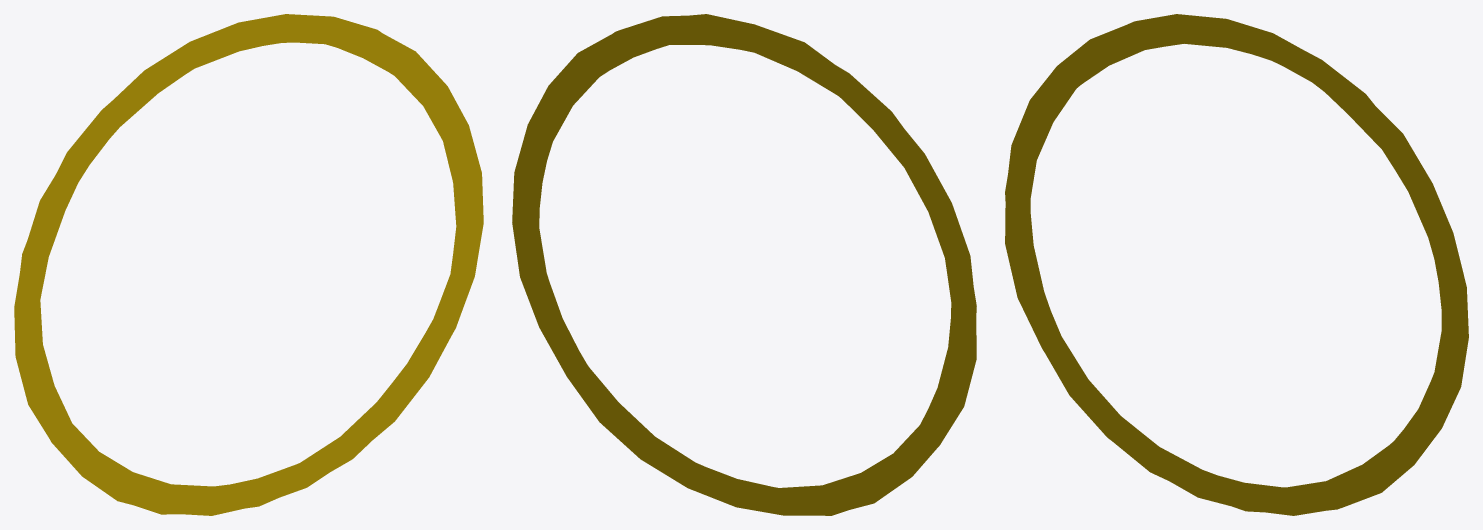
The model's file is original-13.obj.
3 views of the same model, side by side, from view 1: azimuth 30°, elevation 25°; view 2: azimuth 150°, elevation 25°; view 3: azimuth 330°, elevation 25° (orthographic).
Visible parts, largest first — view 1: #ID71; view 2: #ID71; view 3: #ID71.
Part boxes in pixels (left/top/right/bottom): #ID71: left=14, top=14, right=483, bottom=515; #ID71: left=512, top=14, right=976, bottom=515; #ID71: left=1005, top=14, right=1468, bottom=515.
Bounding box in the file's own units: 0.0284 × 0.0284 × 0.000336.
